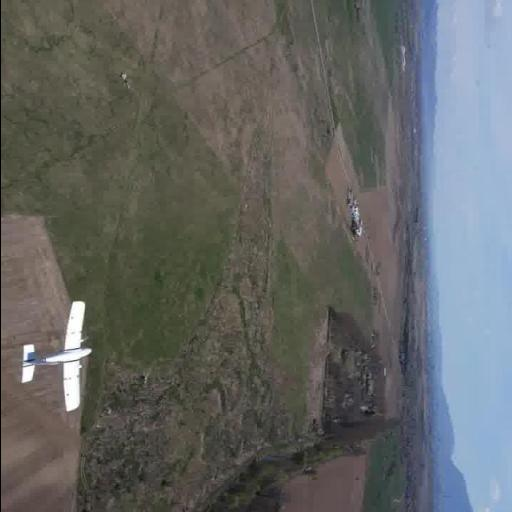uav: (18, 298, 93, 414)
